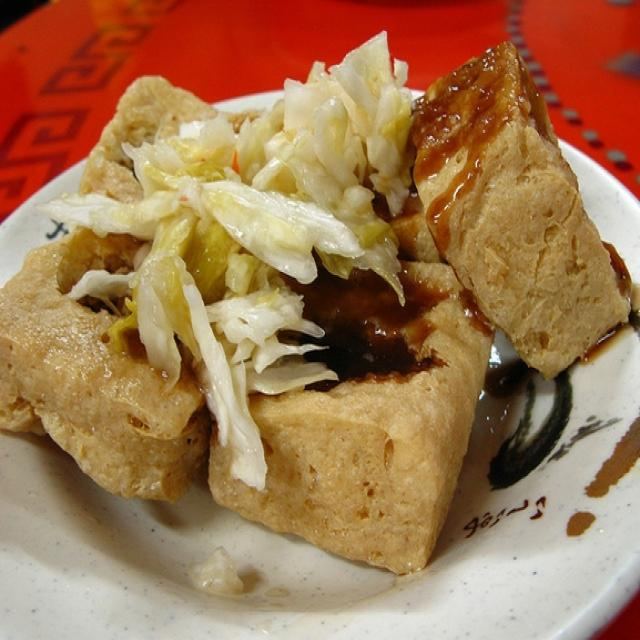豆腐料理: (8, 40, 629, 621)
